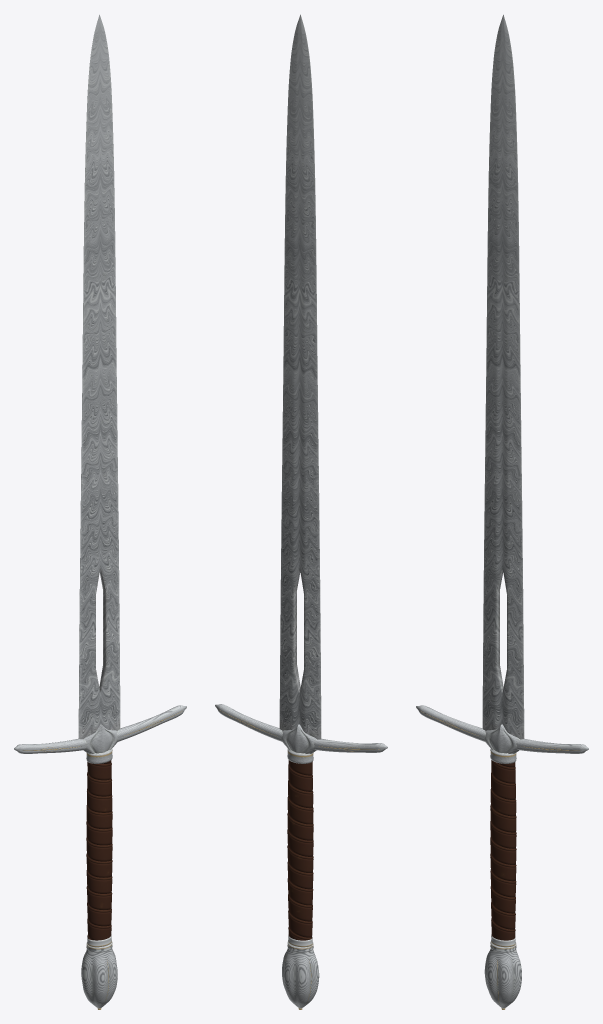
Rendered from branch-sword-drawn-v12.glb.
3 renders of one model, left to right at view 1: azimuth 30°, elevation 25°; view 2: azimuth 150°, elevation 25°; view 3: azimuth 330°, elevation 25°, orthographic.
Visible parts, largest first — view 1: Blade, Grip, Guard, Pommel; view 2: Blade, Grip, Guard, Pommel; view 3: Blade, Grip, Guard, Pommel.
Boxes of the visible parts, left/top/right/bottom form: Blade: left=78, top=14, right=120, bottom=739; Grip: left=86, top=760, right=112, bottom=947; Guard: left=14, top=705, right=186, bottom=763; Pommel: left=81, top=941, right=117, bottom=1009; Blade: left=279, top=14, right=321, bottom=739; Grip: left=287, top=760, right=313, bottom=947; Guard: left=215, top=704, right=387, bottom=763; Pommel: left=282, top=941, right=319, bottom=1009; Blade: left=482, top=14, right=524, bottom=739; Grip: left=490, top=760, right=516, bottom=947; Guard: left=416, top=705, right=588, bottom=763; Pommel: left=484, top=941, right=521, bottom=1009.
Size of the model in its own units: 0.23 by 1.27 by 0.0388.
Materials: 8 (4 with a texture image).
